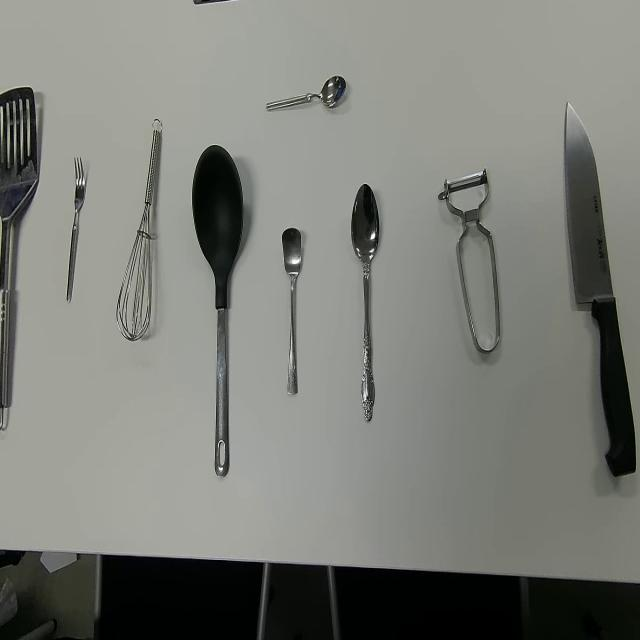Desert-Spoon: (350, 182, 380, 424)
Dinner-Fork: (64, 155, 85, 303)
Kitchen-Knife: (563, 100, 638, 478)
Peeler: (437, 166, 501, 355)
Serving-Spoon: (191, 142, 245, 481), (0, 85, 37, 433)
Tea-Spoon: (281, 226, 303, 397), (265, 73, 347, 114)
Whisk: (114, 116, 162, 342)
